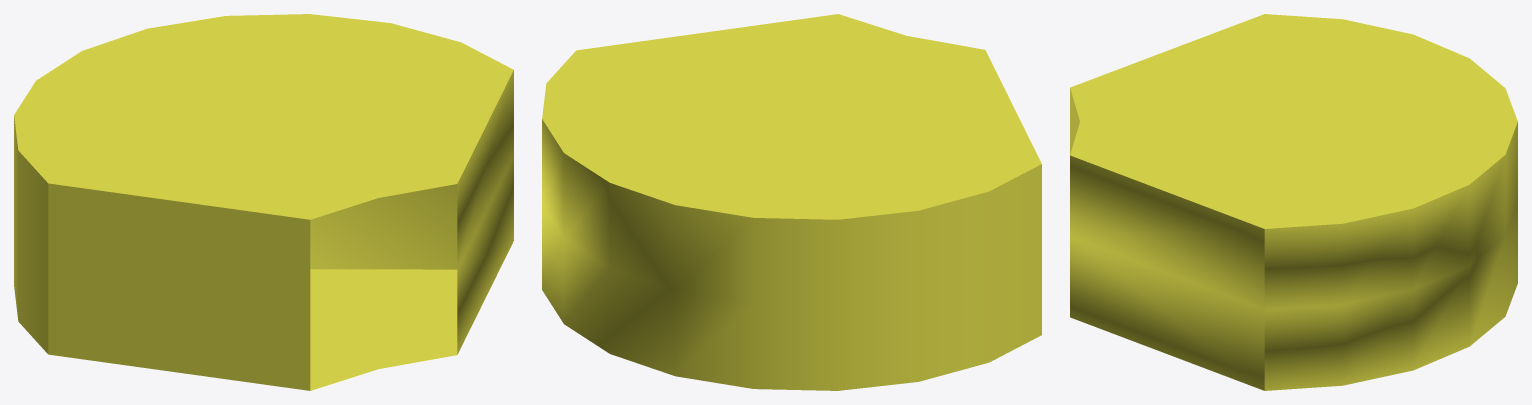
The model's file is coneShapeC.fbx.
3 views of the same model, side by side, from view 1: azimuth 30°, elevation 25°; view 2: azimuth 150°, elevation 25°; view 3: azimuth 270°, elevation 25° (orthographic). The views are drawn at different scales.
Parts seen in each view (by area): view 1: pCylinder1; view 2: pCylinder1; view 3: pCylinder1.
Boxes of the visible parts, x1=… form: pCylinder1: x1=14, y1=14, x2=513, y2=390; pCylinder1: x1=542, y1=14, x2=1041, y2=390; pCylinder1: x1=1070, y1=14, x2=1517, y2=390.
Bounding box in the file's own units: 1.82 × 0.6388 × 1.6.
